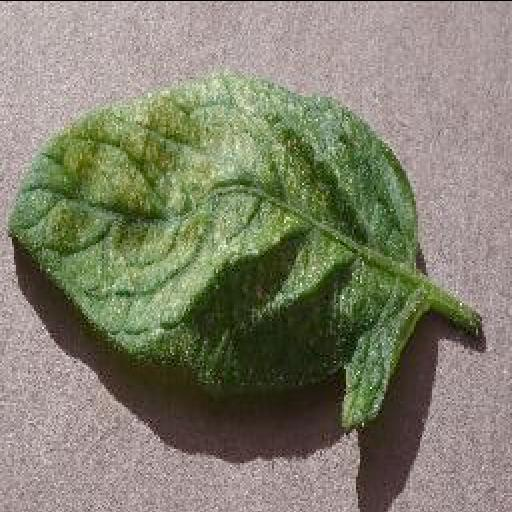disease_tomato: (3, 73, 425, 430)
